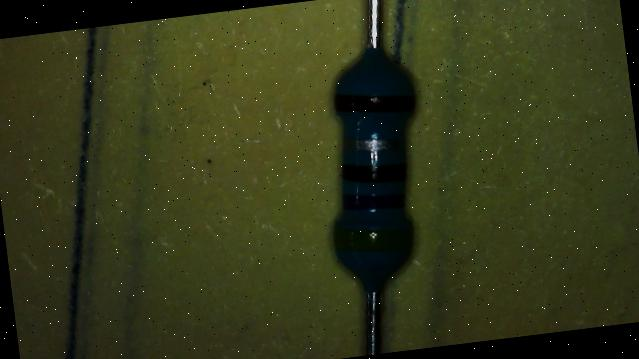black: (341, 158, 407, 190)
brown: (333, 84, 416, 120)
resistor: (288, 41, 456, 296)
silver: (340, 130, 405, 157)
violet: (341, 188, 405, 214)
yellow: (332, 217, 414, 258)
